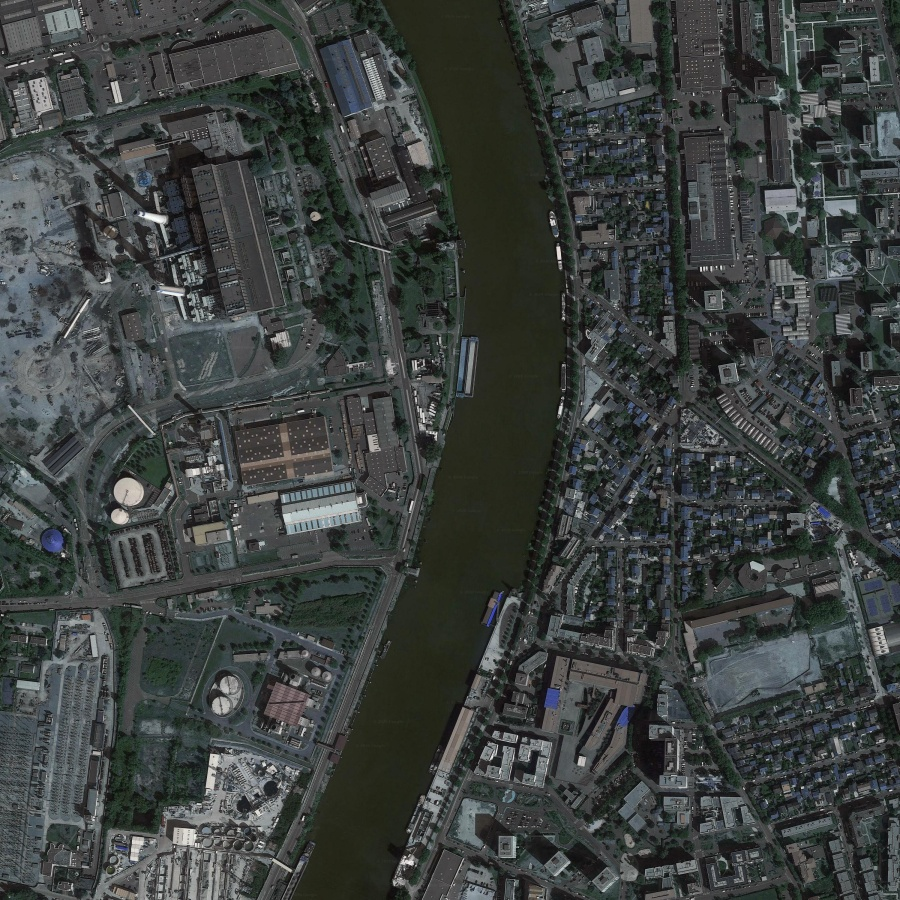PowerPlant: (62, 124, 266, 524)
